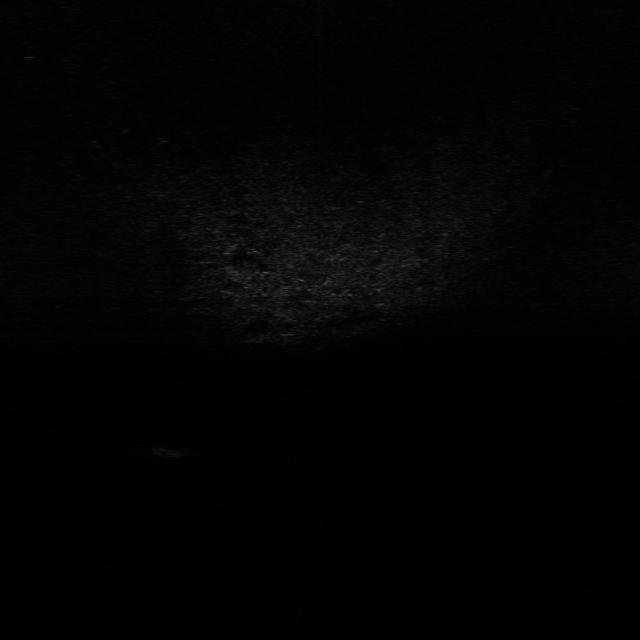cube: (152, 439, 190, 461)
